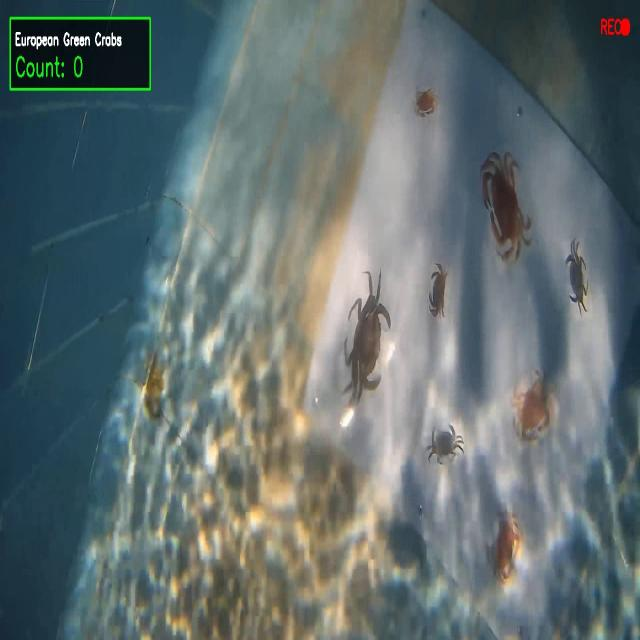European_Green_Crab: (325, 259, 408, 409), (559, 234, 596, 325), (420, 414, 464, 472)
